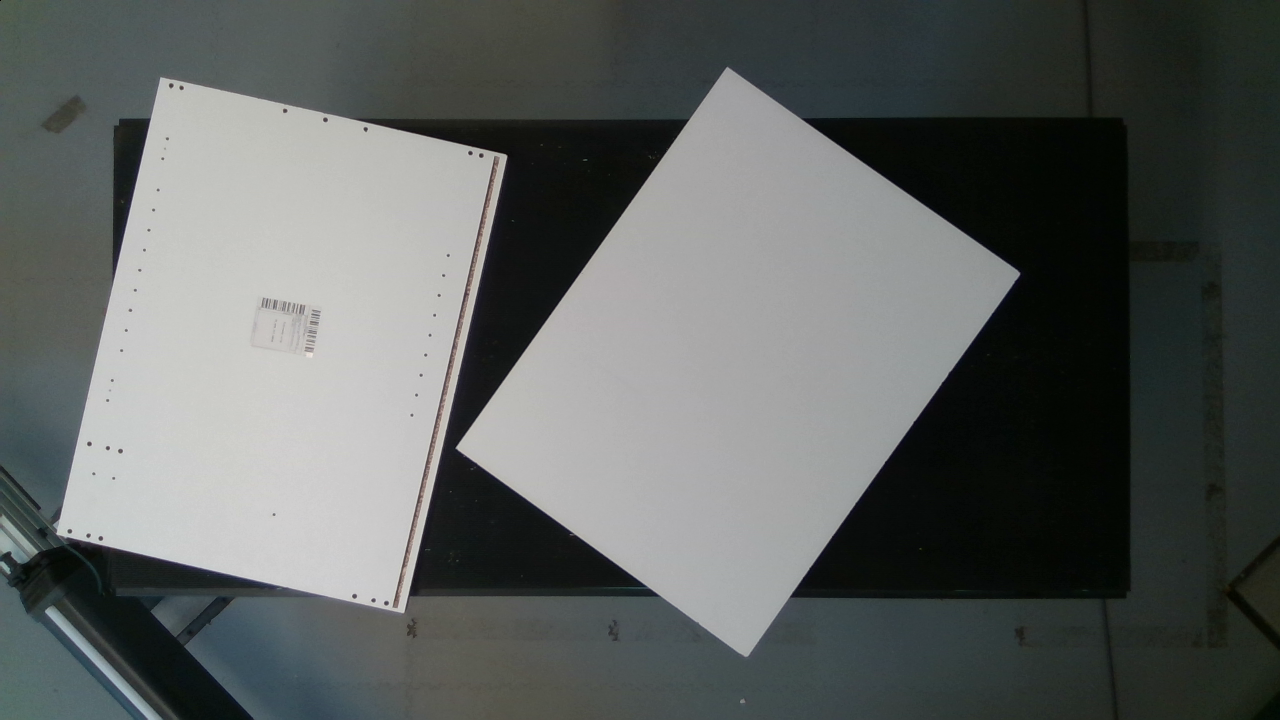barcode: (236, 281, 326, 362)
part2: (451, 57, 1029, 680)
